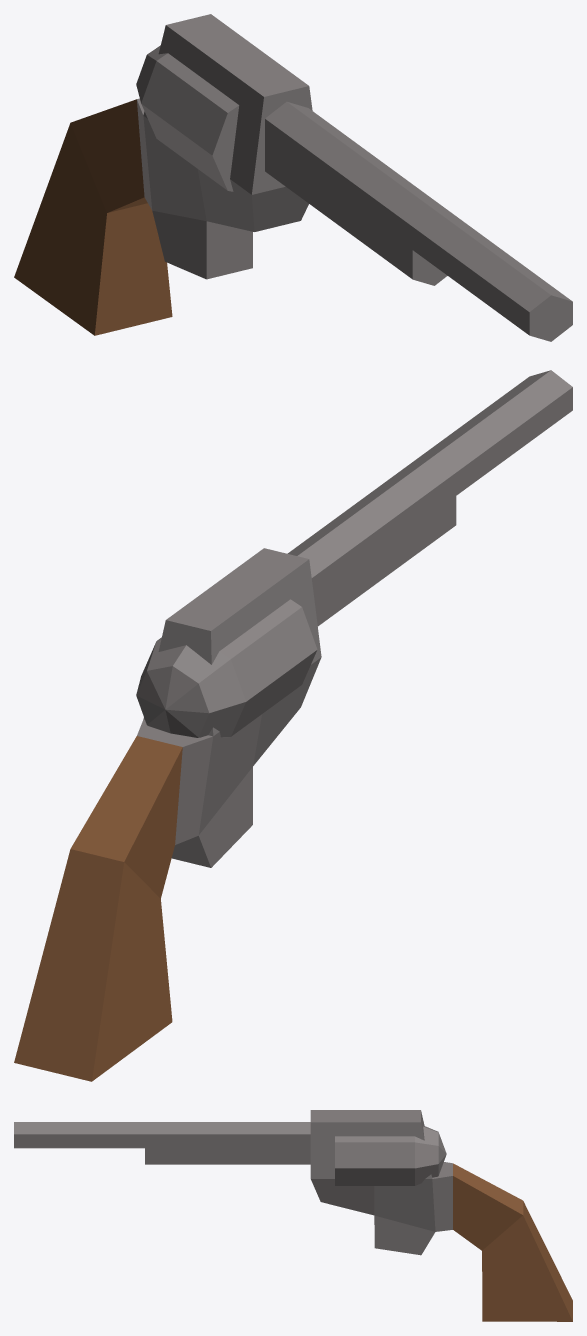
File: weapons_revolver.fbx
The picture shows the model from 3 angles, top to bottom: view 1: azimuth 30°, elevation 25°; view 2: azimuth 150°, elevation 25°; view 3: azimuth 270°, elevation 25°; orthographic projection. The views are drawn at different scales.
Visible parts, largest first — view 1: weapons_revolver; view 2: weapons_revolver; view 3: weapons_revolver.
Part boxes in pixels (bbox=[...]): weapons_revolver: bbox=[14, 14, 572, 341]; weapons_revolver: bbox=[14, 370, 572, 1081]; weapons_revolver: bbox=[14, 1110, 572, 1321].
Bounding box in the file's own units: 24.36 × 76.96 × 200.
